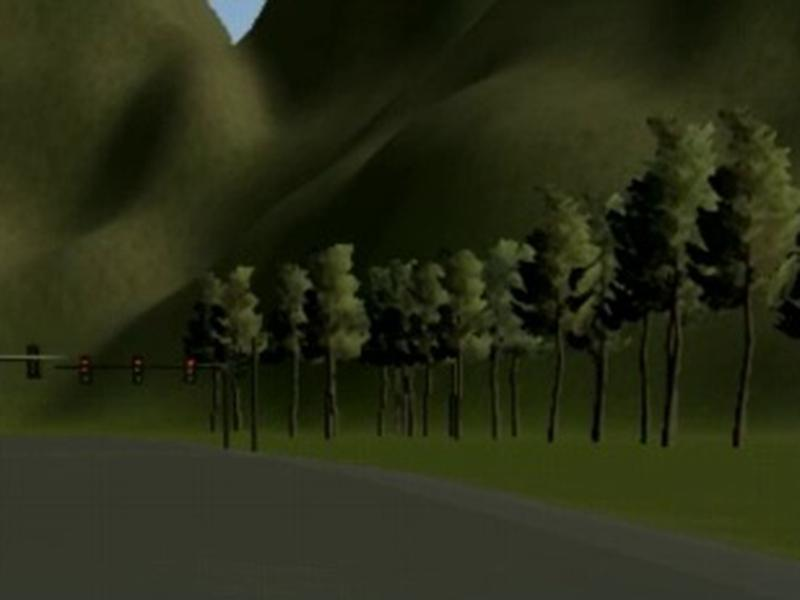Red: (130, 352, 145, 388), (183, 355, 196, 387), (79, 355, 92, 387)
